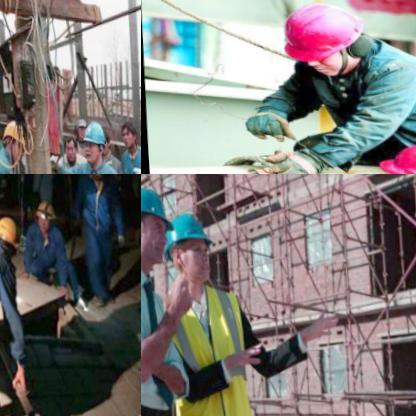helmet: (264, 0, 378, 81), (155, 201, 214, 291), (141, 174, 175, 264), (79, 116, 106, 162), (31, 195, 56, 233), (0, 115, 21, 159), (0, 210, 18, 249)
